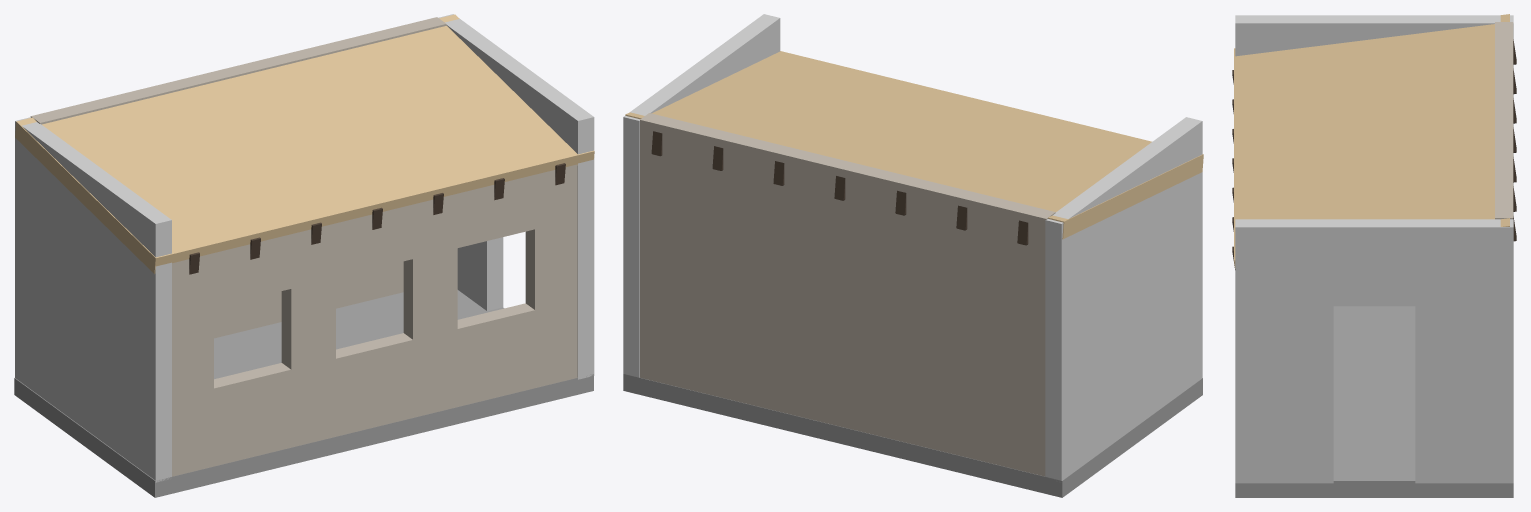
Rendered from B99_Kitchen.fbx.
3 renders of one model, left to right at view 1: azimuth 30°, elevation 25°; view 2: azimuth 150°, elevation 25°; view 3: azimuth 270°, elevation 25°, orthographic.
Parts seen in each view (by area): view 1: polySurface3, pCube6, polySurface2, pCube1, pCube59; view 2: polySurface3, polySurface2, pCube6, pCube1, pCube59; view 3: polySurface2, pCube6, pCube1, polySurface3, pCube59.
Part boxes in pixels (x1,y1,x2,y2): polySurface3: (30,17,577,476); pCube6: (15,14,594,273); polySurface2: (15,14,594,482); pCube1: (14,290,593,497); pCube59: (189,163,565,274); polySurface3: (640,113,1055,476); polySurface2: (623,14,1202,480); pCube6: (625,51,1203,239); pCube1: (623,374,1202,497); pCube59: (651,131,1028,245); polySurface2: (1235,15,1513,483); pCube6: (1234,14,1509,268); pCube1: (1235,306,1513,497); polySurface3: (1495,22,1513,219); pCube59: (1232,39,1516,269).
Bounding box in the file's own units: 5.4 × 3.23 × 3.06.
